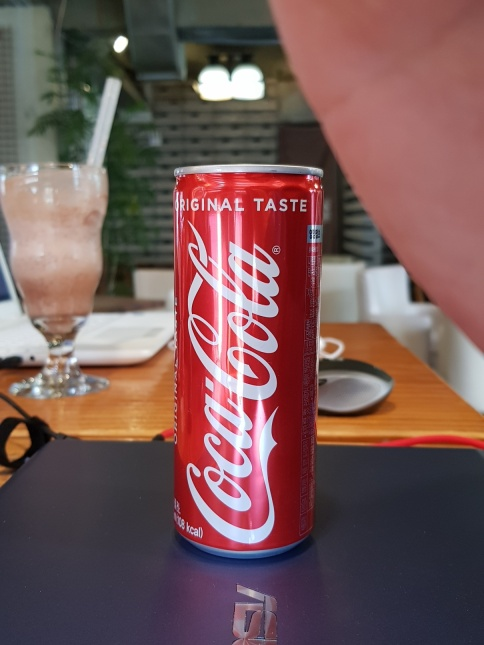Can: (169, 161, 328, 565)
